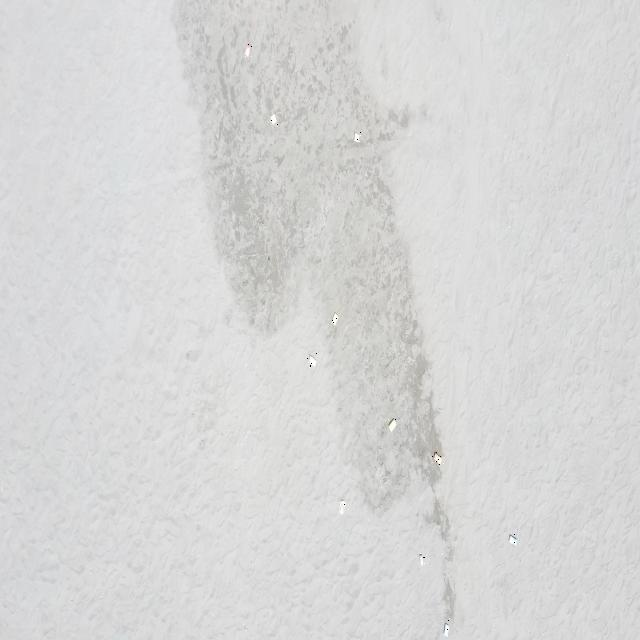Garbage: (307, 352, 316, 367), (432, 451, 442, 464), (387, 417, 395, 431), (243, 43, 251, 56), (508, 532, 516, 544), (339, 500, 346, 513), (419, 553, 426, 564), (443, 620, 448, 635), (331, 312, 337, 324), (352, 131, 360, 140), (270, 114, 277, 124)
